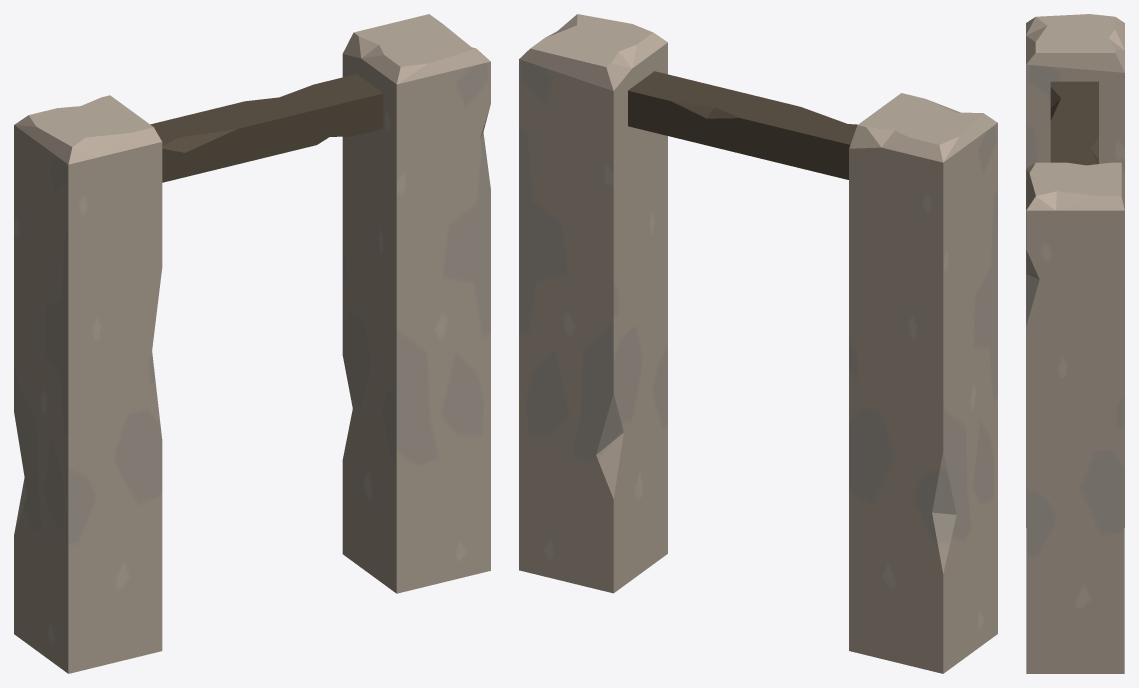
File: SM_Bld_Village_Wall_Gate_01.glb
3 views of the same model, side by side, from view 1: azimuth 30°, elevation 25°; view 2: azimuth 150°, elevation 25°; view 3: azimuth 270°, elevation 25° (orthographic). The views are drawn at different scales.
Parts seen in each view (by area): view 1: SM_Bld_Village_Wall_Gate_01; view 2: SM_Bld_Village_Wall_Gate_01; view 3: SM_Bld_Village_Wall_Gate_01.
Part boxes in pixels (bbox=[...]): SM_Bld_Village_Wall_Gate_01: bbox=[14, 14, 490, 673]; SM_Bld_Village_Wall_Gate_01: bbox=[519, 14, 997, 673]; SM_Bld_Village_Wall_Gate_01: bbox=[1026, 14, 1124, 673].
Size of the model in its own units: 2.71 by 3.19 by 0.6035.
1 material, 1 textured.
